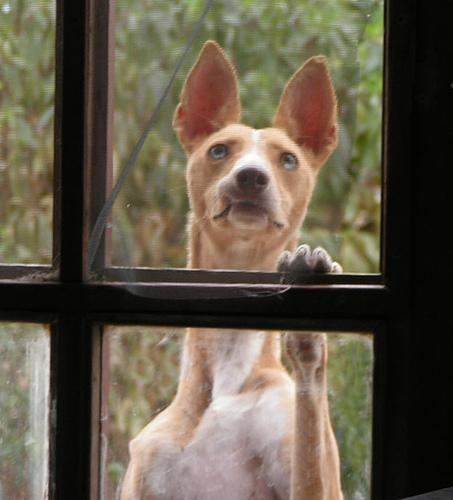Ibizan_hound: (113, 40, 349, 498)
